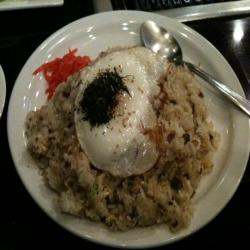omelette: (75, 53, 175, 181)
rice: (28, 66, 216, 229)
